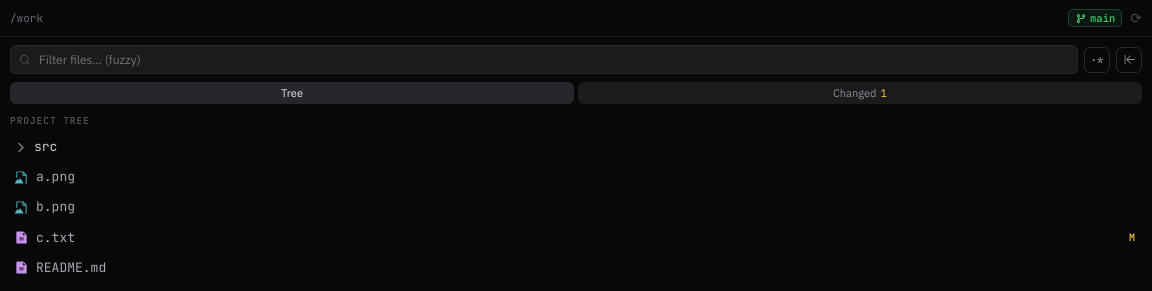
Test case: cmd-click adds to the selection without opening the file
Click the text "a.png" at {"x": 56, "y": 177}, box x1=36 y1=168 x2=75 y2=185
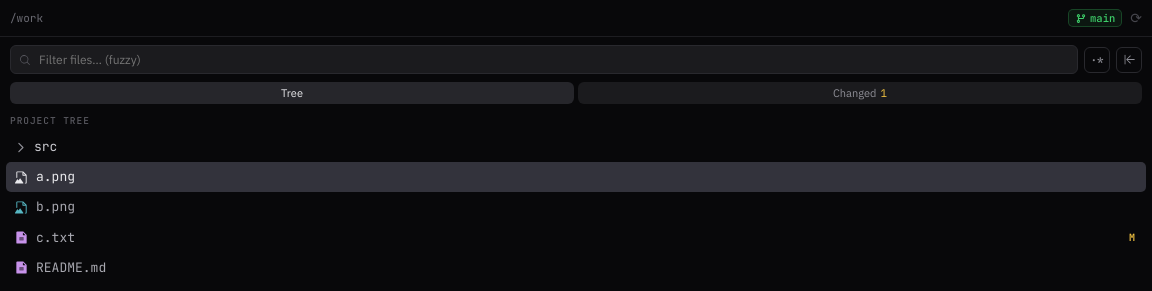
Click the text "b.png" at {"x": 56, "y": 207}, box x1=36 y1=198 x2=75 y2=215
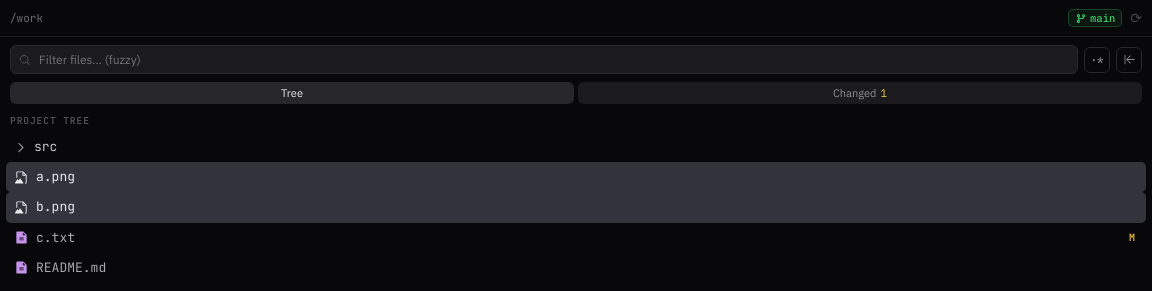
# Both are now targets: right-click one, and Delete should offer to remove 2 items.
Right-click the text "b.png" at {"x": 56, "y": 207}, box x1=36 y1=198 x2=75 y2=215
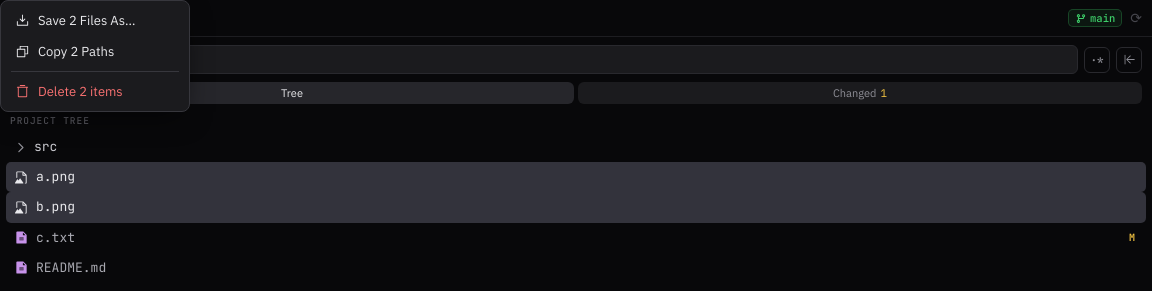
Expected: the button "Delete 2 items" is shown, x1=5 y1=76 x2=185 y2=107
